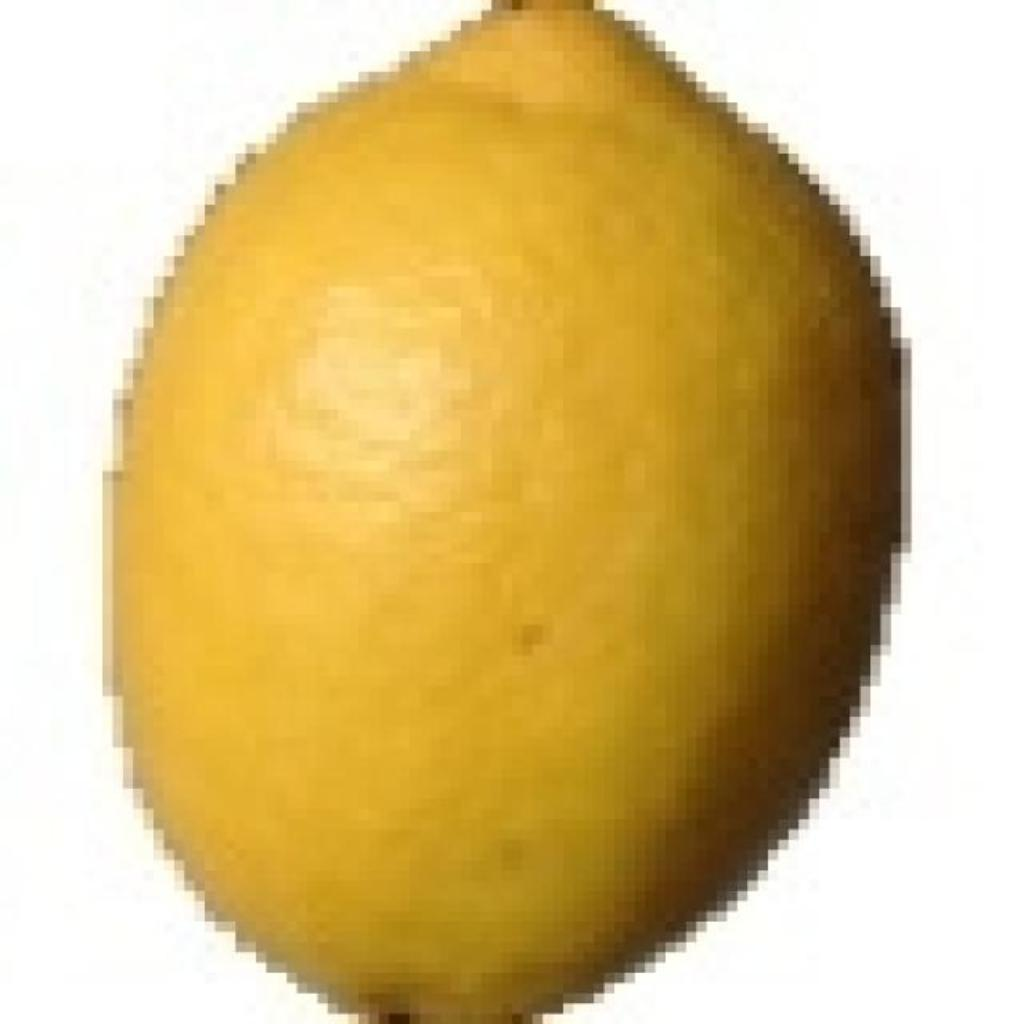lemon: (114, 0, 900, 1024)
